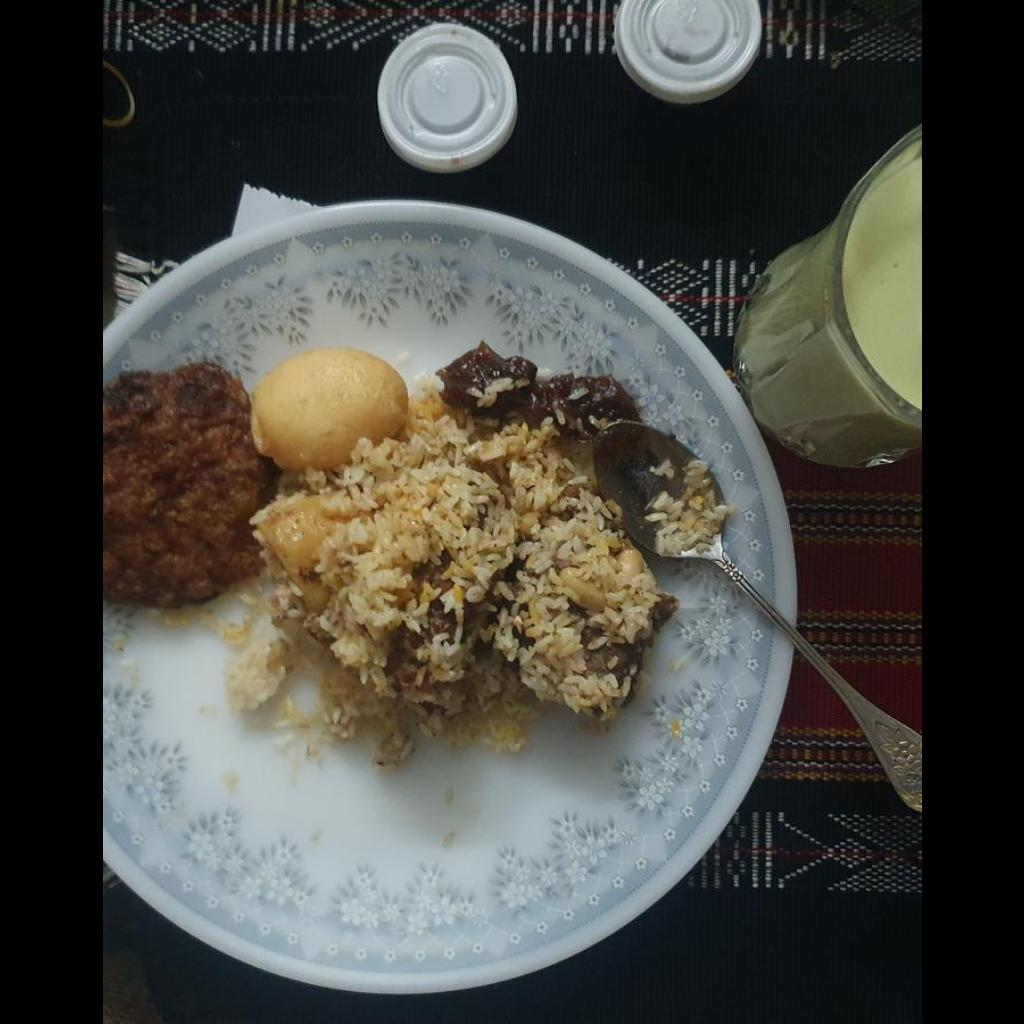biriyani: (221, 344, 675, 766)
egg-boiled: (250, 349, 407, 470)
juice: (842, 141, 920, 410)
kabab: (102, 363, 276, 608)
